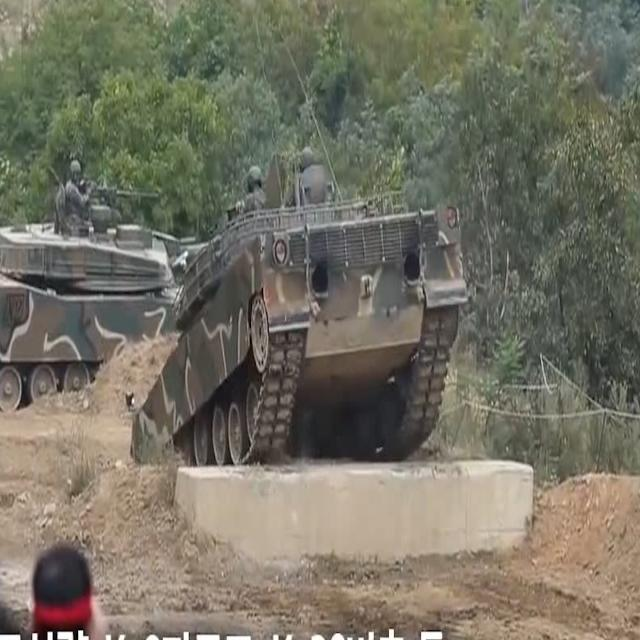korea tank: (123, 146, 470, 470)
